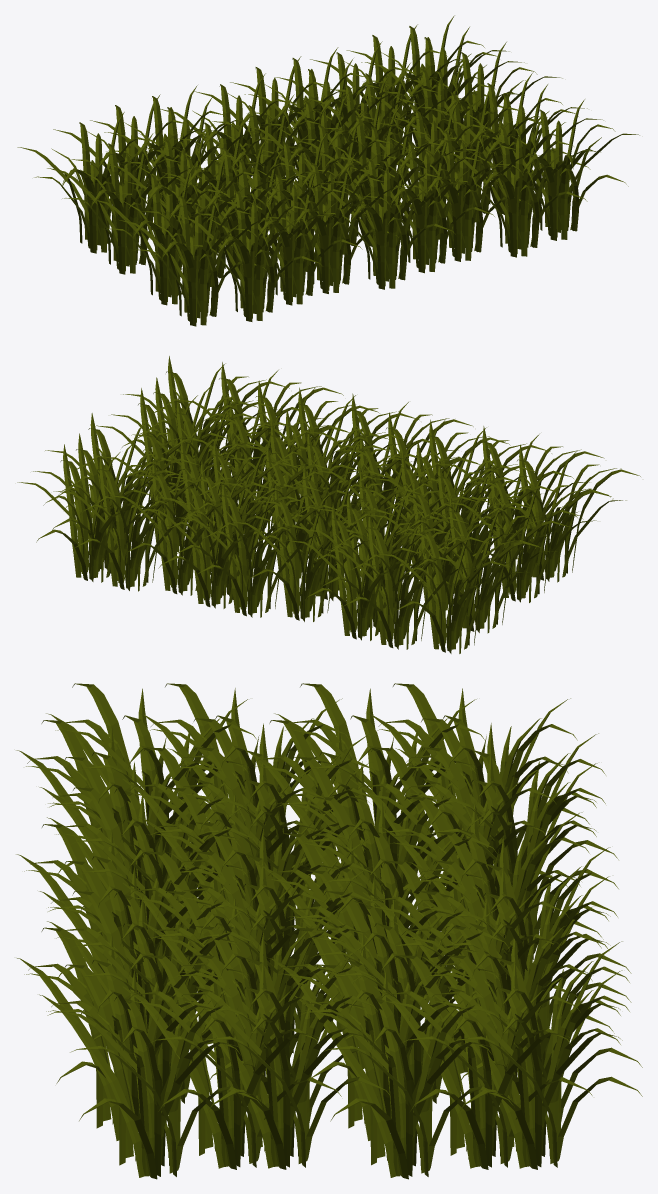
The model's file is grassfbx.fbx.
3 renders of one model, top to bottom at view 1: azimuth 30°, elevation 25°; view 2: azimuth 150°, elevation 25°; view 3: azimuth 270°, elevation 25°, orthographic. The views are drawn at different scales.
Parts seen in each view (by area): view 1: Grass_24 (×6), Grass_25 (×6), Grass_26 (×5), Grass_23 (×6), Grass_22 (×6), Grass_21 (×6), Grass_20 (×6), Low_Grass:Grass_20; view 2: Grass_22 (×6), Grass_23 (×6), Grass_21 (×6), Grass_20 (×6), Grass_24 (×6), Grass_25 (×6), Grass_26 (×5), Low_Grass:Grass_20; view 3: Grass_21 (×6), Grass_20 (×6), Grass_26 (×5), Grass_25 (×6), Grass_24 (×6), Grass_23 (×6), Grass_22 (×6), Low_Grass:Grass_20.
Part boxes in pixels (x1=…): Grass_24 (×6): x1=47, y1=63, x2=543, y2=326; Grass_25 (×6): x1=102, y1=59, x2=600, y2=321; Grass_26 (×5): x1=147, y1=42, x2=639, y2=305; Grass_23 (×6): x1=17, y1=41, x2=515, y2=305; Grass_22 (×6): x1=53, y1=24, x2=550, y2=286; Grass_21 (×6): x1=90, y1=15, x2=587, y2=278; Grass_20 (×6): x1=104, y1=27, x2=603, y2=279; Low_Grass:Grass_20: x1=244, y1=58, x2=409, y2=180; Grass_22 (×6): x1=53, y1=397, x2=560, y2=649; Grass_23 (×6): x1=107, y1=401, x2=613, y2=653; Grass_21 (×6): x1=17, y1=388, x2=522, y2=640; Grass_20 (×6): x1=33, y1=377, x2=539, y2=627; Grass_24 (×6): x1=135, y1=380, x2=640, y2=633; Grass_25 (×6): x1=100, y1=362, x2=604, y2=614; Grass_26 (×5): x1=45, y1=356, x2=551, y2=608; Low_Grass:Grass_20: x1=154, y1=459, x2=323, y2=596; Grass_21 (×6): x1=167, y1=747, x2=642, y2=1169; Grass_20 (×6): x1=117, y1=747, x2=631, y2=1169; Grass_26 (×5): x1=39, y1=757, x2=513, y2=1179; Grass_25 (×6): x1=16, y1=720, x2=489, y2=1140; Grass_24 (×6): x1=46, y1=683, x2=508, y2=1103; Grass_23 (×6): x1=138, y1=683, x2=614, y2=1095; Grass_22 (×6): x1=167, y1=718, x2=642, y2=1122; Low_Grass:Grass_20: x1=359, y1=860, x2=577, y2=1073.
Size of the model in its own units: 1.01 by 0.2028 by 0.7008.
